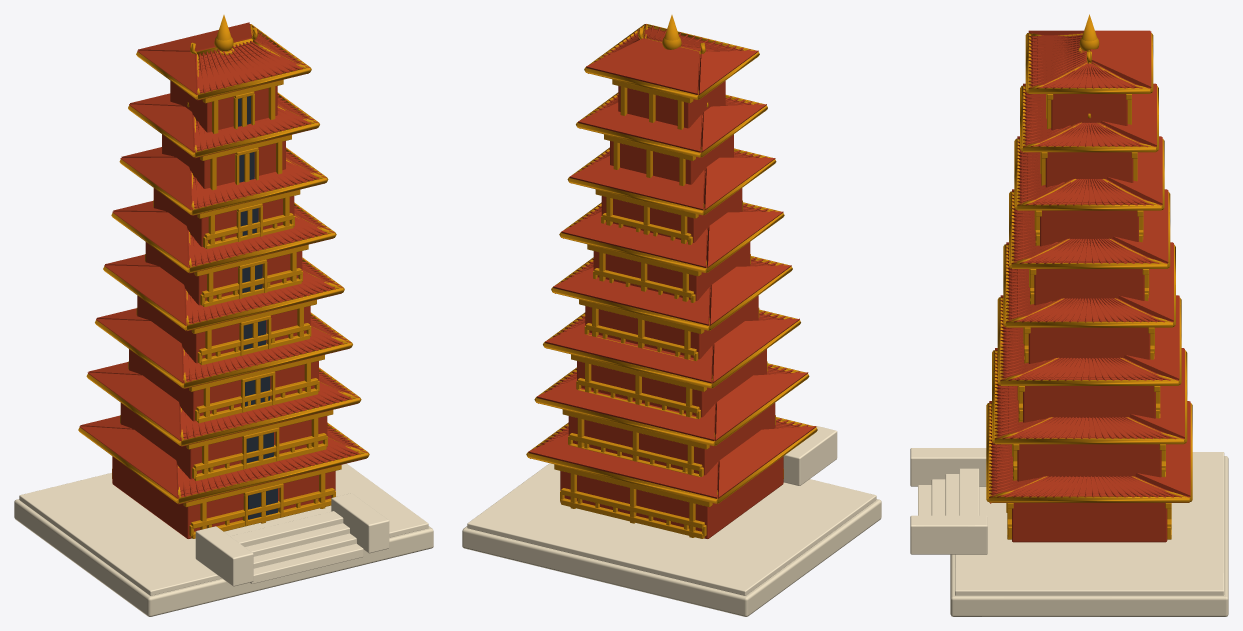
The model's file is ninh-binh.glb.
3 views of the same model, side by side, from view 1: azimuth 30°, elevation 25°; view 2: azimuth 150°, elevation 25°; view 3: azimuth 270°, elevation 25° (orthographic). The views are drawn at different scales.
Visible parts, largest first — view 1: LANDMARK_ninh-binh.001; view 2: LANDMARK_ninh-binh.001; view 3: LANDMARK_ninh-binh.001.
Boxes of the visible parts, left/top/right/bottom form: LANDMARK_ninh-binh.001: left=14, top=15, right=433, bottom=616; LANDMARK_ninh-binh.001: left=462, top=15, right=881, bottom=616; LANDMARK_ninh-binh.001: left=910, top=14, right=1228, bottom=616.
Bounding box in the file's own units: 1.19 × 2.07 × 1.12.
